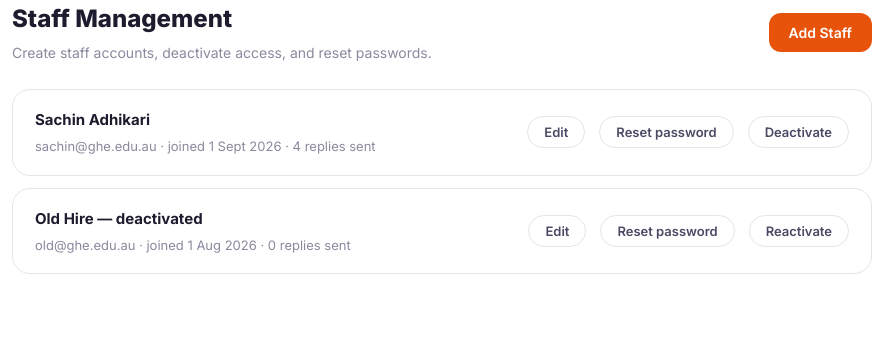
Test: shows an error when a staff action fails
The width and height of the screenshot is (889, 360).
Expected: the text "Sachin Adhikari" is shown, 35,110 -> 150,129
Click the button "Deactivate" at (798, 132), box 748,116 -> 849,148
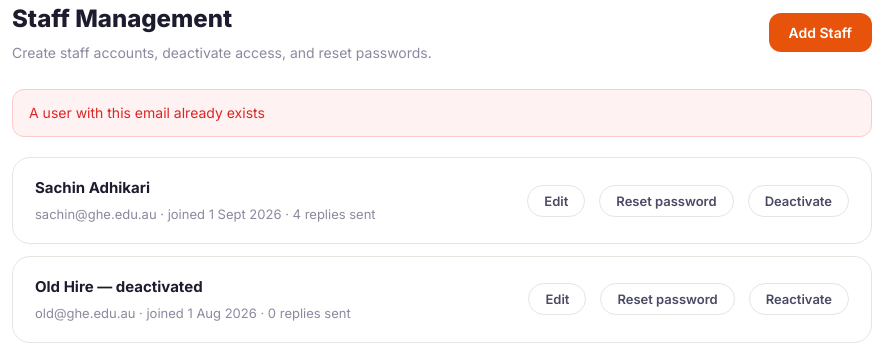
Result: the message shows "already exists" at 29,104 -> 265,121
